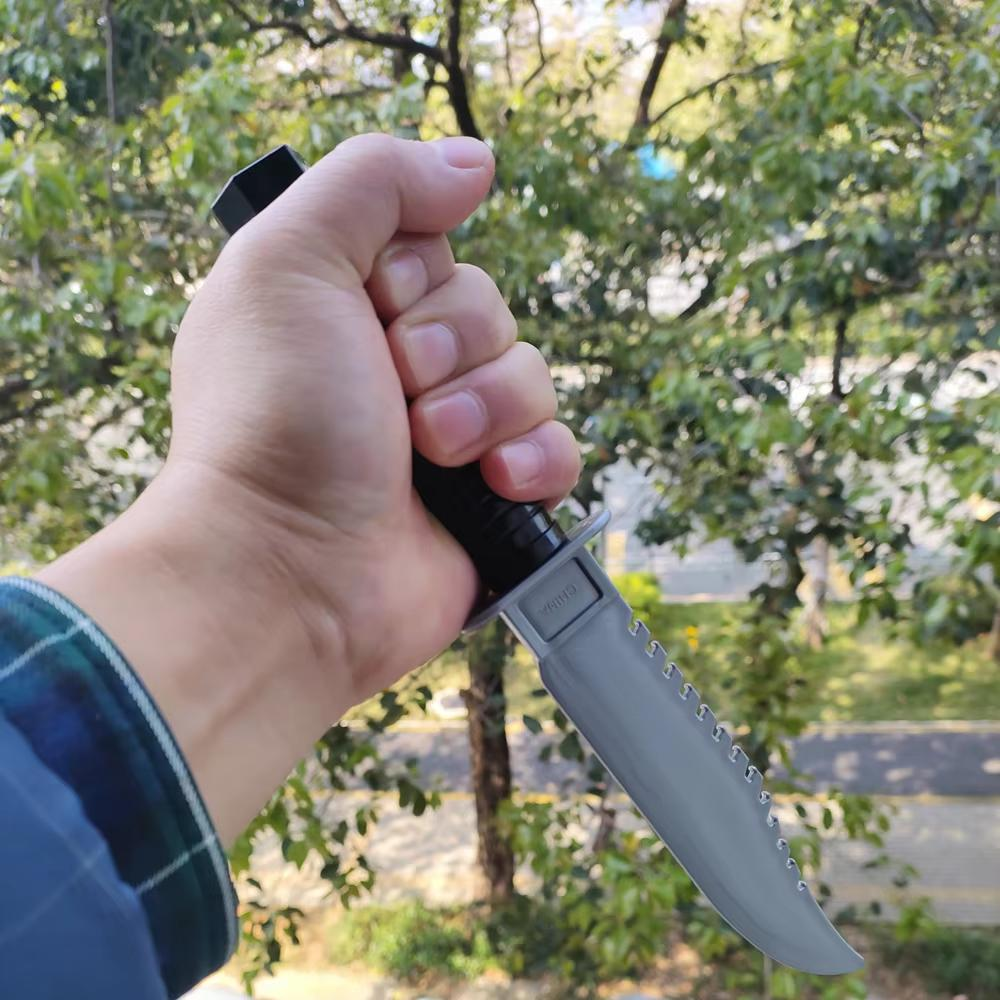Knife: (0, 134, 580, 1000), (180, 136, 579, 673), (461, 502, 865, 970)
